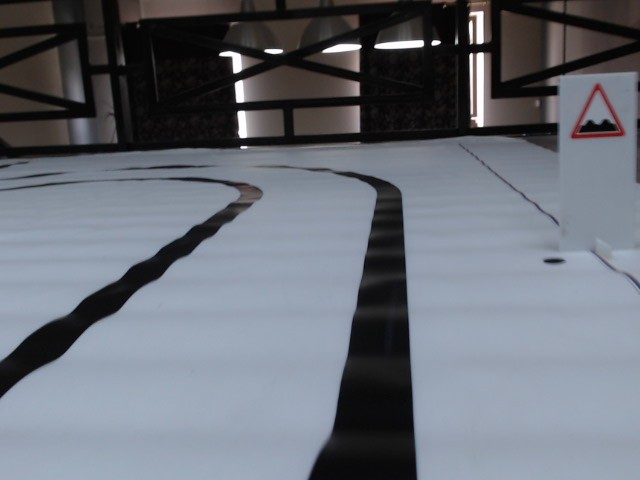Nerov: (570, 83, 629, 140)
